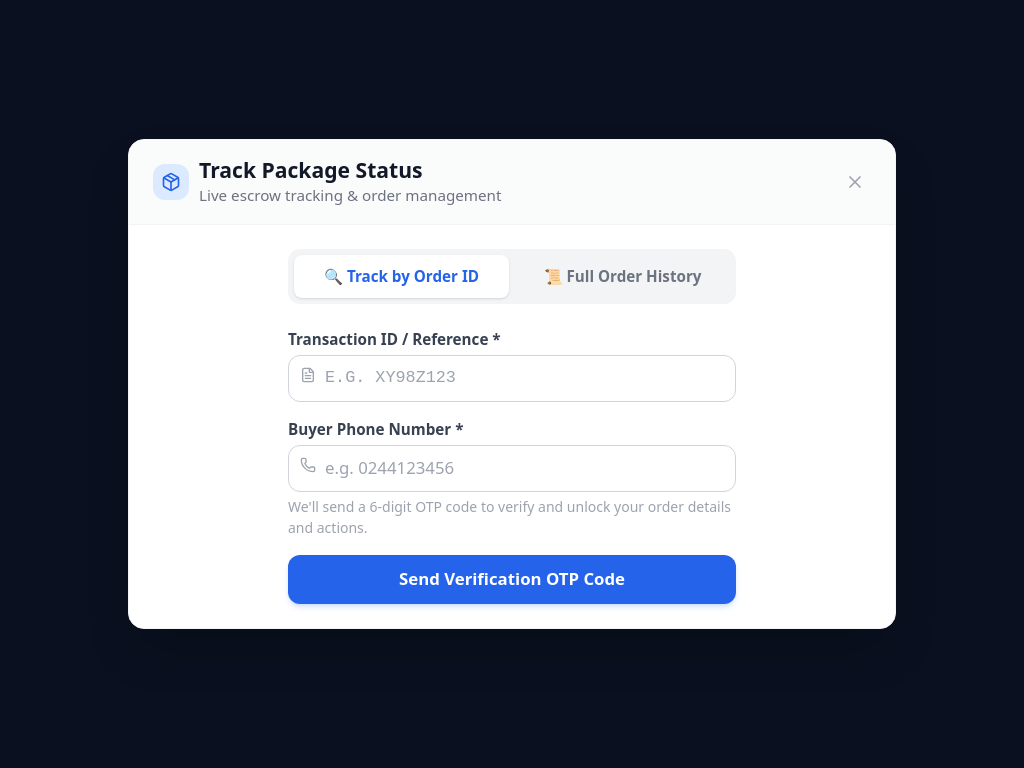
TrackingModal Component › sends OTP code for guest buyer tracking single order
Type "PSTK_BOSE_123" into the field with placeholder "e.g. XY98Z123" at (512, 378), box [288,355,736,402]
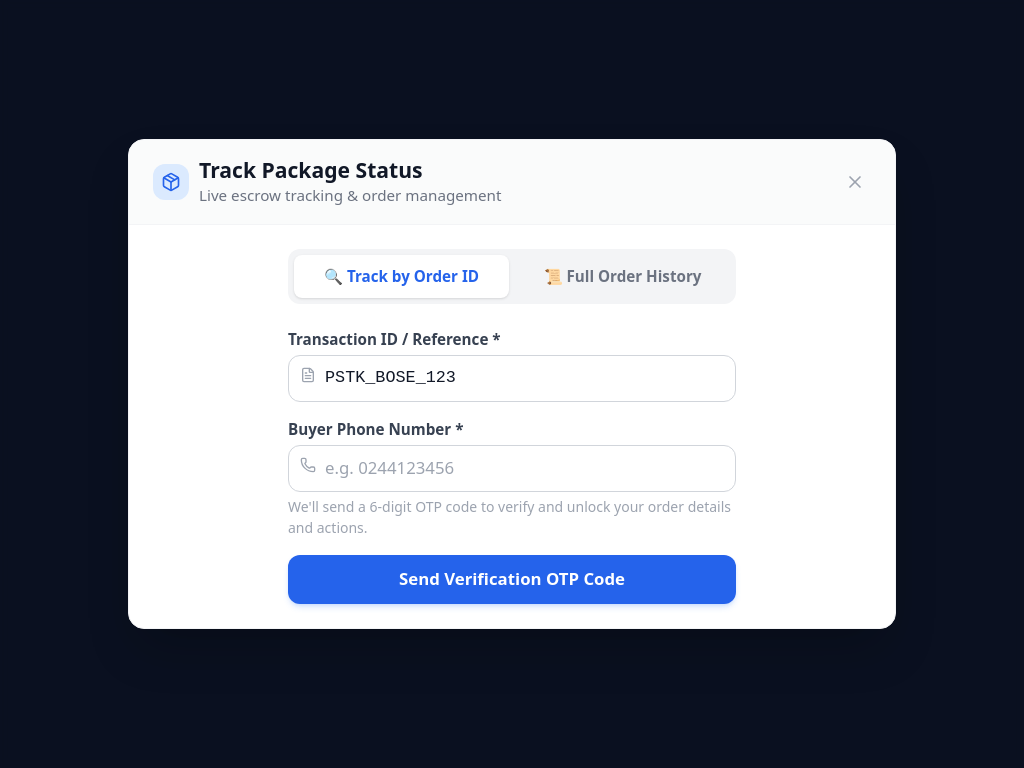
Type "0244112233" into the field with placeholder "e.g. 0244123456" at (512, 468), box [288,445,736,492]
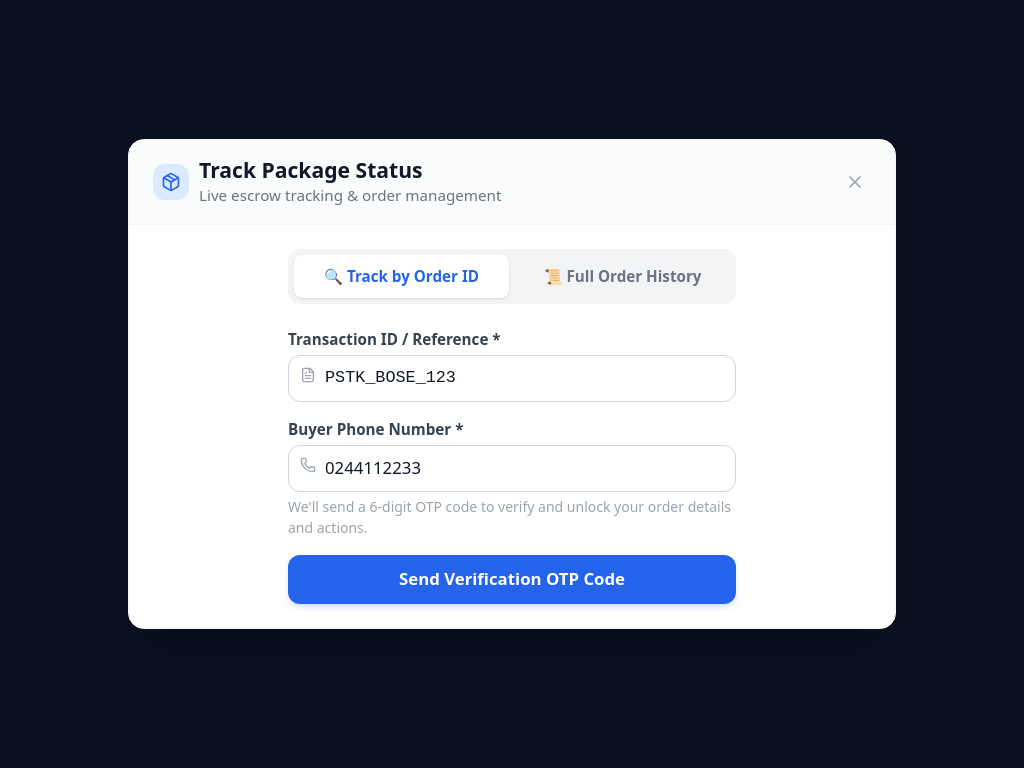
Click the button "Send Verification OTP Code" at (512, 579), box [288,555,736,604]
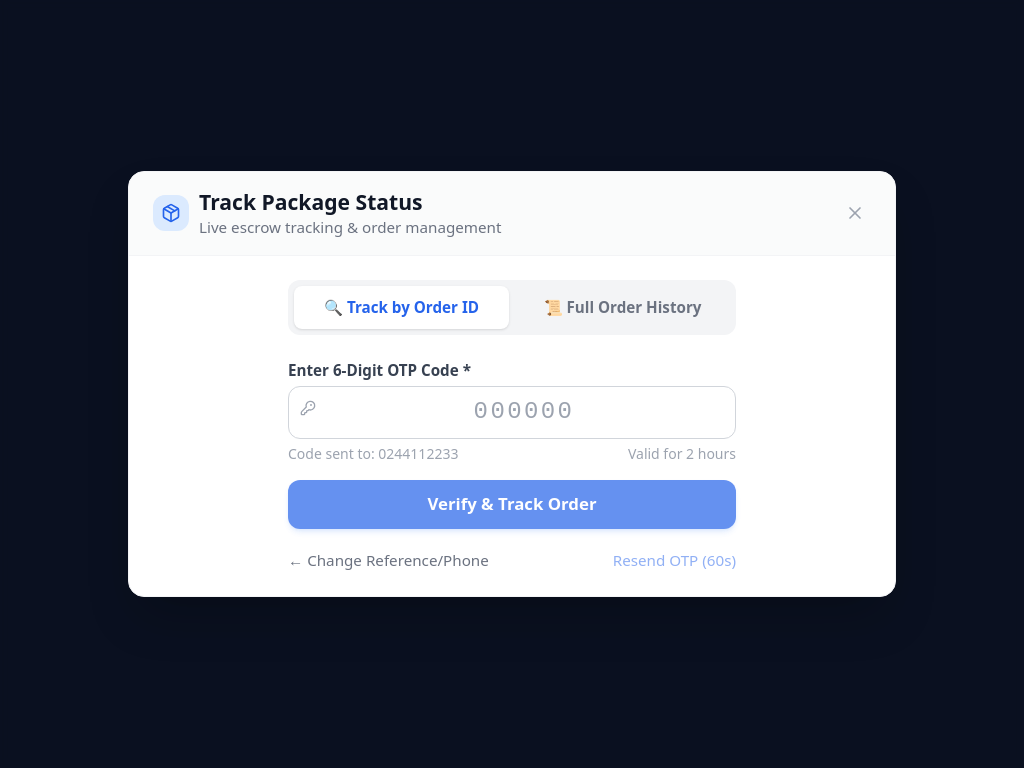
Expected: the field with placeholder "000000" is shown, [288,386,736,439]
Expected: the button "Verify & Track Order" is shown, [288,480,736,529]
